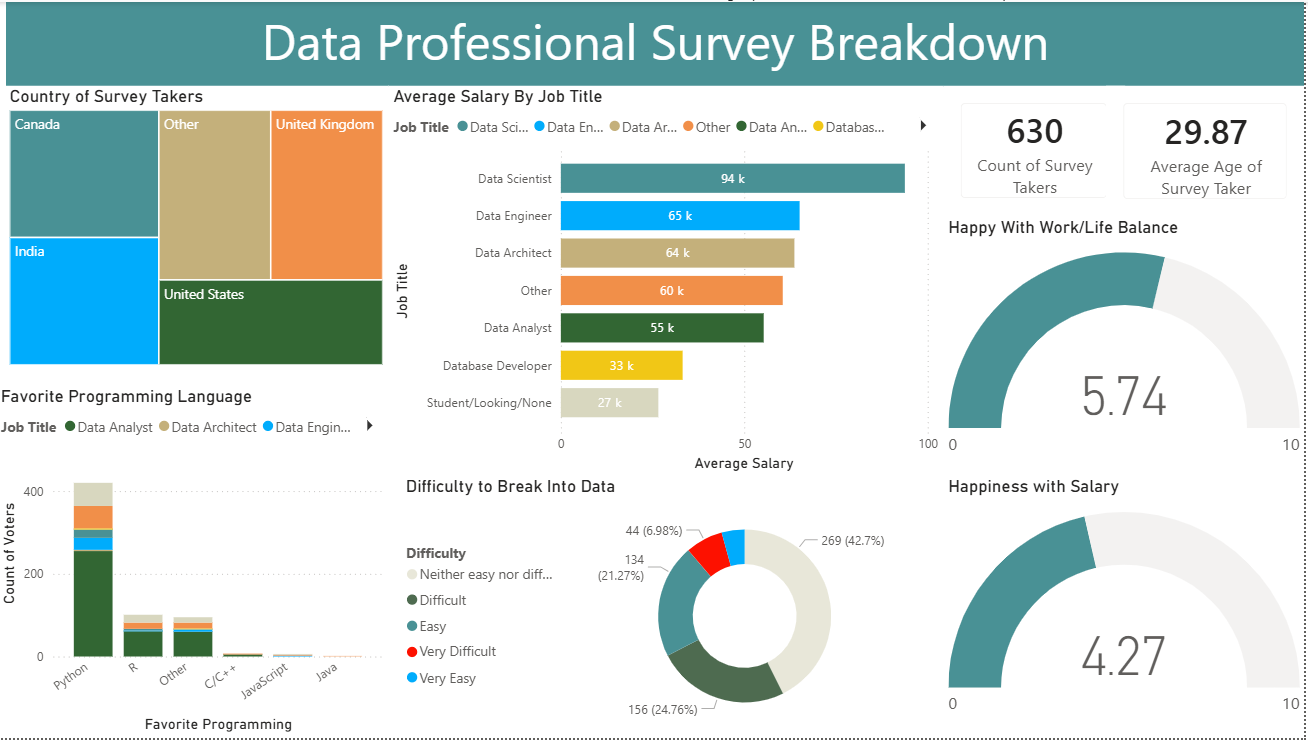

The page's visual inventory and layout, read from the dashboard file:
{"tool":"powerbi","page":{"name":"Page 1","canvas":[1280,720],"ordinal":0},"visuals":[{"type":"textbox","box":[9.6,0,1270.7,82.3],"z":0},{"type":"cardVisual","fields":{"Data":["CountNonNull(Data Professional Survey.Unique ID)"]},"box":[926.5,82,177.3,127.9],"z":1000},{"type":"cardVisual","fields":{"Data":["Avg(Data Professional Survey.Q10 - Current Age)"]},"box":[1085.3,81.6,195,128.5],"z":2000},{"type":"barChart","title":"Average Salary By Job Title","fields":{"Category":["Data Professional Survey.Q1 - Which Title Best Fits your Current Role?.1"],"Y":["Avg(Data Professional Survey.Average Salary)"],"Series":["Data Professional Survey.Q1 - Which Title Best Fits your Current Role?.1"]},"box":[383.9,81.6,542.7,382.4],"z":3000},{"type":"columnChart","title":"Favorite Programming Language","fields":{"Category":["Data Professional Survey.Q5 - Favorite Programming Language.1"],"Y":["CountNonNull(Data Professional Survey.Unique ID)"],"Series":["Data Professional Survey.Q1 - Which Title Best Fits your Current Role?.1"]},"box":[0,375.4,384,343.6],"z":4000},{"type":"treemap","title":"Country of Survey Takers","fields":{"Group":["Data Professional Survey.Q11 - Which Country do you live in?.1"],"Values":["Count(Data Professional Survey.Q11 - Which Country do you live in?.1)"]},"box":[9.1,81.6,374.9,278.1],"z":5000},{"type":"gauge","title":"Happiness with Salary","fields":{"Y":["Avg(Data Professional Survey.Q6 - How Happy are you in your Current Position with the following? (Salary))"],"MinValue":["Min(Data Professional Survey.Q6 - How Happy are you in your Current Position with the following? (Salary))"],"MaxValue":["Max(Data Professional Survey.Q6 - How Happy are you in your Current Position with the following? (Salary))"]},"box":[926.6,464.1,353.7,255.5],"z":6000},{"type":"gauge","title":"Happy With Work/Life Balance","fields":{"Y":["Avg(Data Professional Survey.Q6 - How Happy are you in your Current Position with the following? (Work/Life Balance))"],"MinValue":["Min(Data Professional Survey.Q6 - How Happy are you in your Current Position with the following? (Work/Life Balance))"],"MaxValue":["Max(Data Professional Survey.Q6 - How Happy are you in your Current Position with the following? (Work/Life Balance))1"]},"box":[926.6,210.1,353.7,253.9],"z":7000},{"type":"donutChart","title":"Difficulty to Break Into Data","fields":{"Category":["Data Professional Survey.Q7 - How difficult was it for you to break into Data?"],"Y":["CountNonNull(Data Professional Survey.Q7 - How difficult was it for you to break into Data?)"]},"box":[396.2,463.5,518.5,255.6],"z":8000}]}

Visuals, with their boxes in screenshot pixels (x1, y1, x2, y2), scaled from the page's 1280x720 canvas onto the 1308x740 screenshot:
textbox: bbox=[10, 0, 1307, 85]
cardVisual - CountNonNull(Data Professional Survey.Unique ID): bbox=[947, 84, 1128, 216]
cardVisual - Avg(Data Professional Survey.Q10 - Current Age): bbox=[1109, 84, 1307, 216]
"Average Salary By Job Title" barChart: bbox=[392, 84, 947, 477]
"Favorite Programming Language" columnChart: bbox=[0, 386, 392, 739]
"Country of Survey Takers" treemap: bbox=[9, 84, 392, 370]
"Happiness with Salary" gauge: bbox=[947, 477, 1307, 739]
"Happy With Work/Life Balance" gauge: bbox=[947, 216, 1307, 477]
"Difficulty to Break Into Data" donutChart: bbox=[405, 476, 935, 739]
